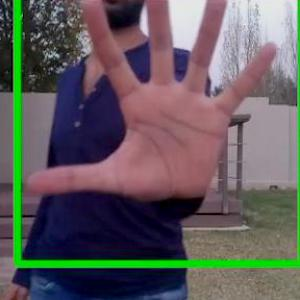follow_hand: (22, 0, 284, 211)
